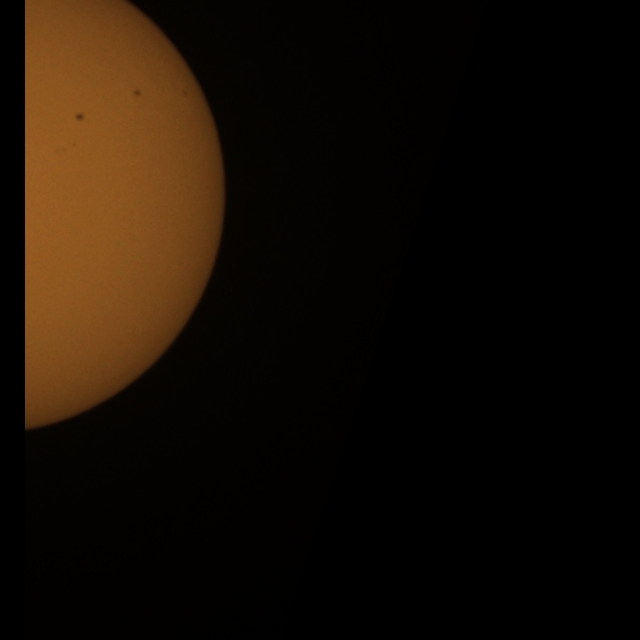sunspot: (132, 88, 143, 99), (74, 112, 86, 122), (182, 88, 189, 98)
